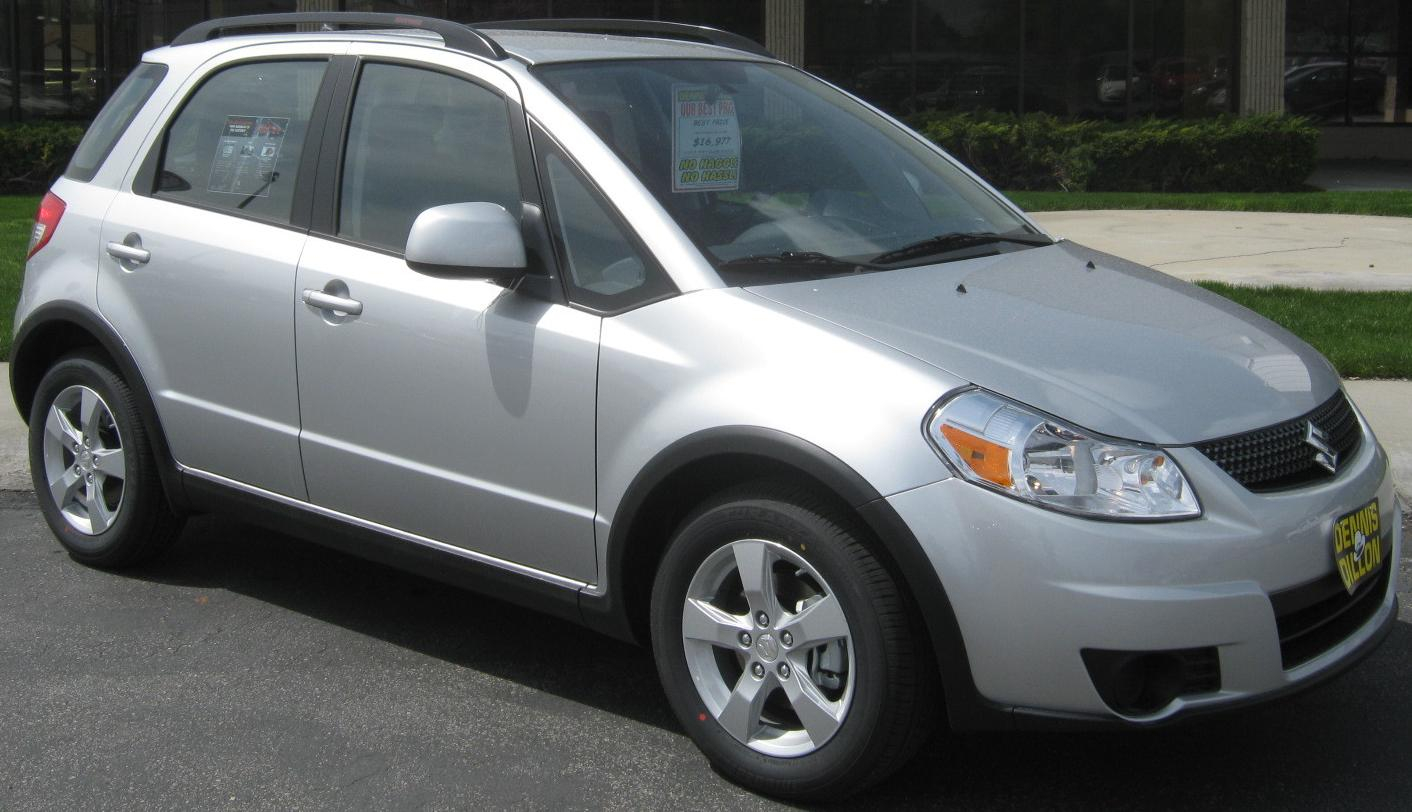front_view: (899, 335, 1412, 738)
headlight: (916, 372, 1217, 529)
side_glass: (156, 45, 617, 313)
